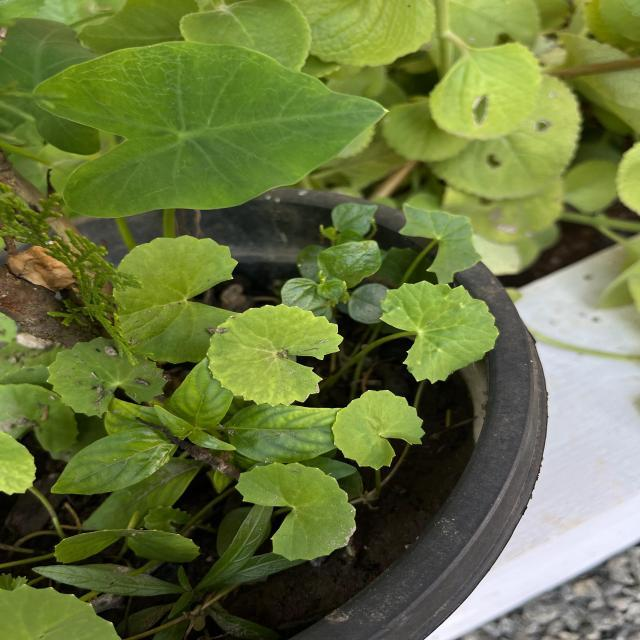Centella asiatica: (109, 231, 242, 367), (203, 300, 347, 412), (377, 278, 504, 390), (231, 459, 360, 564), (328, 385, 430, 472)
